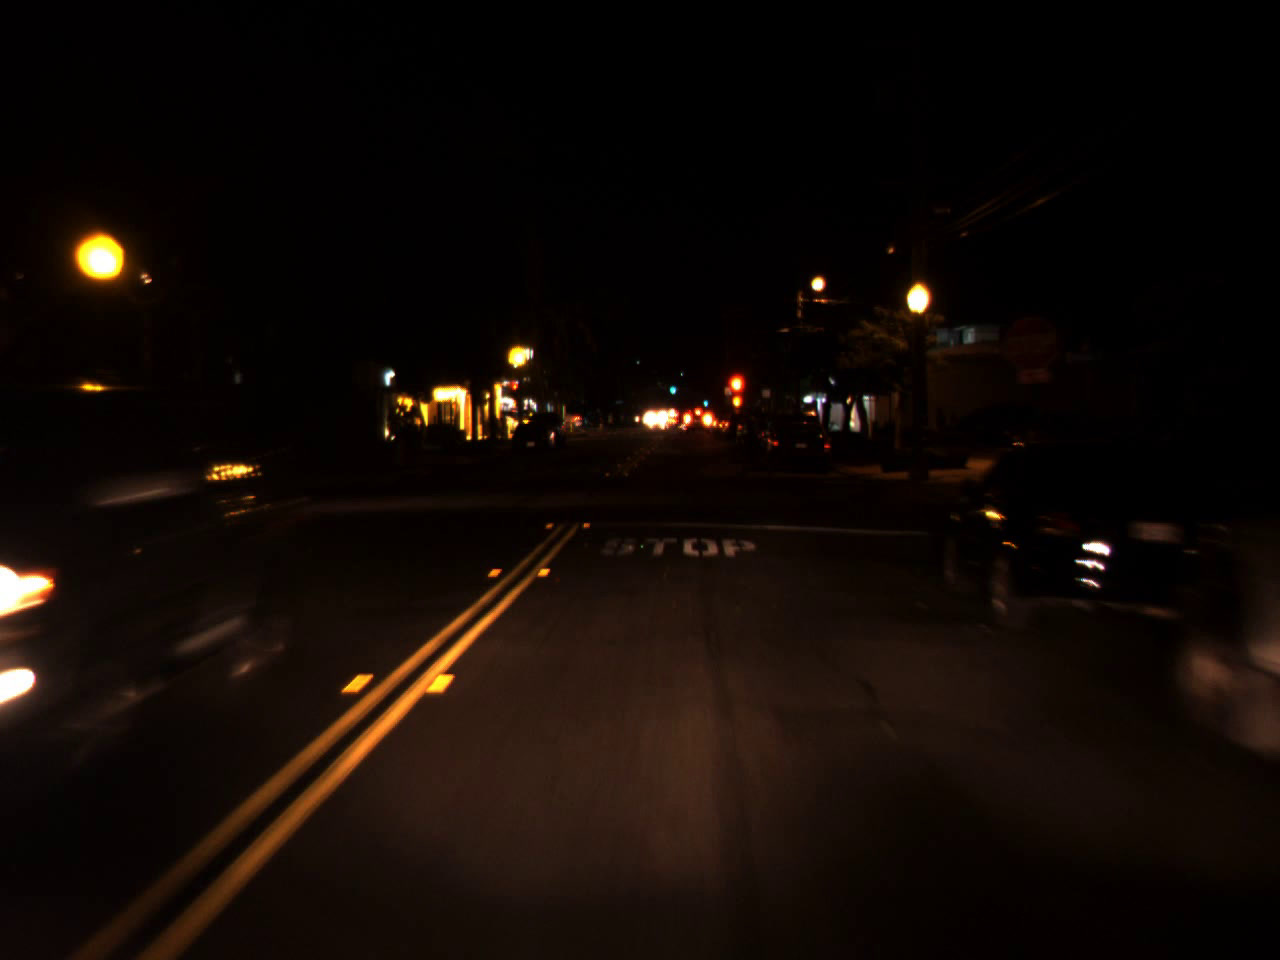go: (667, 380, 676, 395), (701, 391, 710, 406)
stop: (727, 373, 745, 413), (509, 379, 521, 403)
